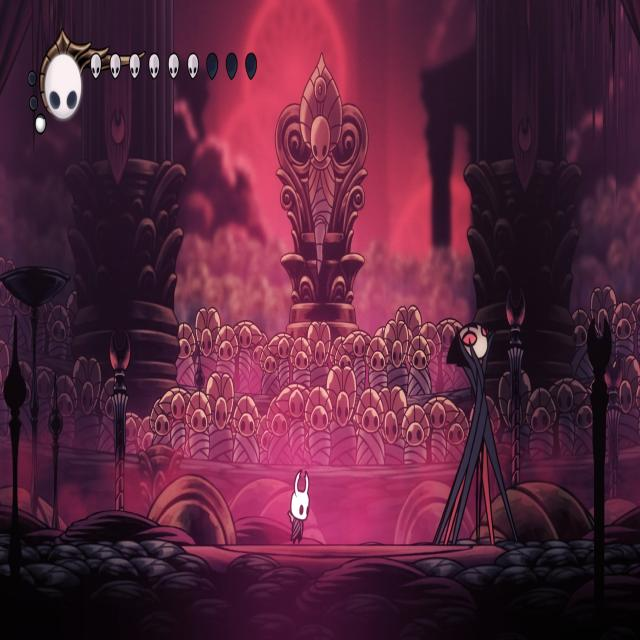Grimm: (426, 315, 512, 543)
Player: (284, 466, 310, 546)
